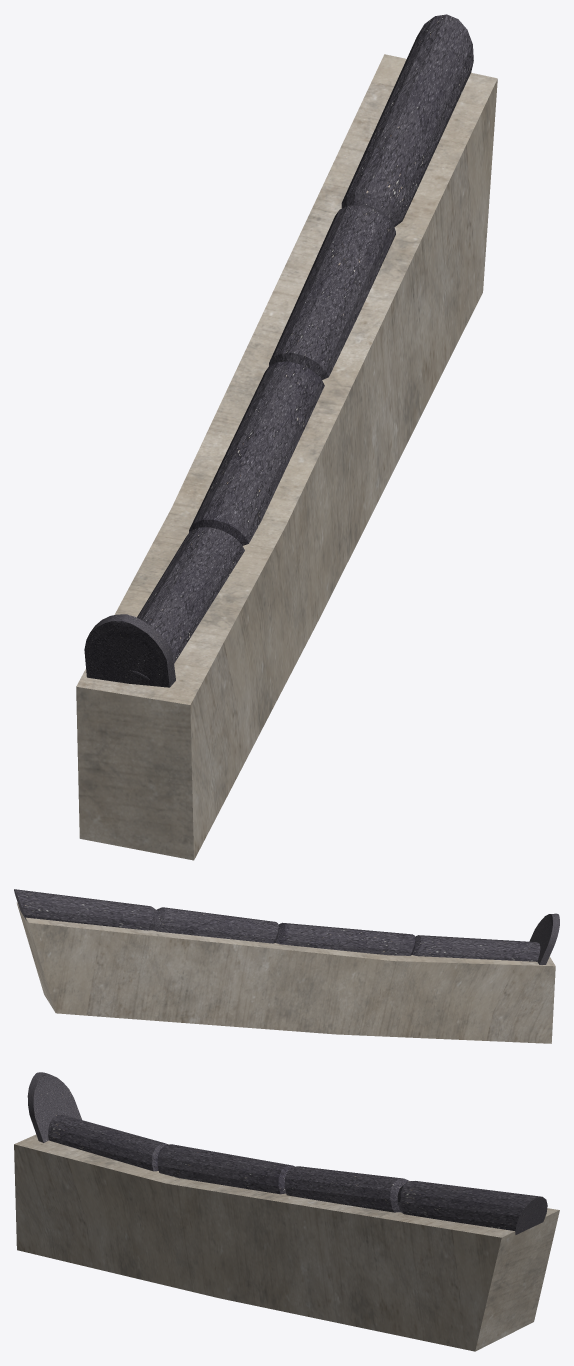
File: SM_R_BeamRoof_2.fbx
3 renders of one model, top to bottom at view 1: azimuth 30°, elevation 25°; view 2: azimuth 150°, elevation 25°; view 3: azimuth 270°, elevation 25°, orthographic. The views are drawn at different scales.
Parts seen in each view (by area): view 1: SM_R_BeamRoof_2; view 2: SM_R_BeamRoof_2; view 3: SM_R_BeamRoof_2.
Boxes of the visible parts, box(x1,y1,x2,y2) form: SM_R_BeamRoof_2: box(76, 14, 497, 860); SM_R_BeamRoof_2: box(14, 889, 559, 1043); SM_R_BeamRoof_2: box(14, 1072, 559, 1351).
Size of the model in its own units: 275 by 264 by 139.
Materials: 2 (2 with a texture image).
